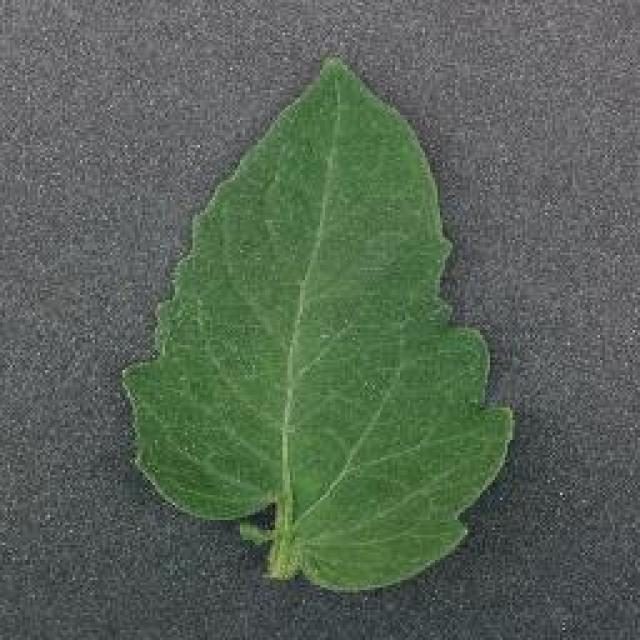Tomato healthy leaf: (138, 49, 514, 604)
